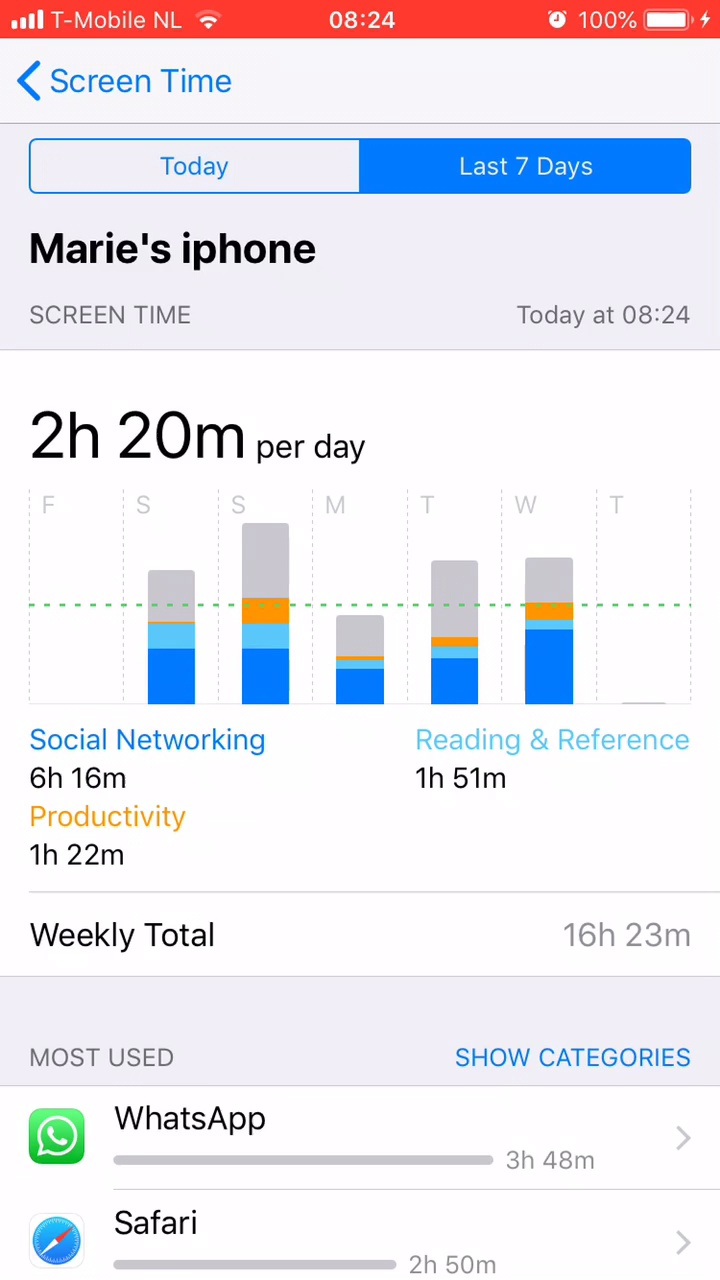use_over: (14, 724, 707, 963)
